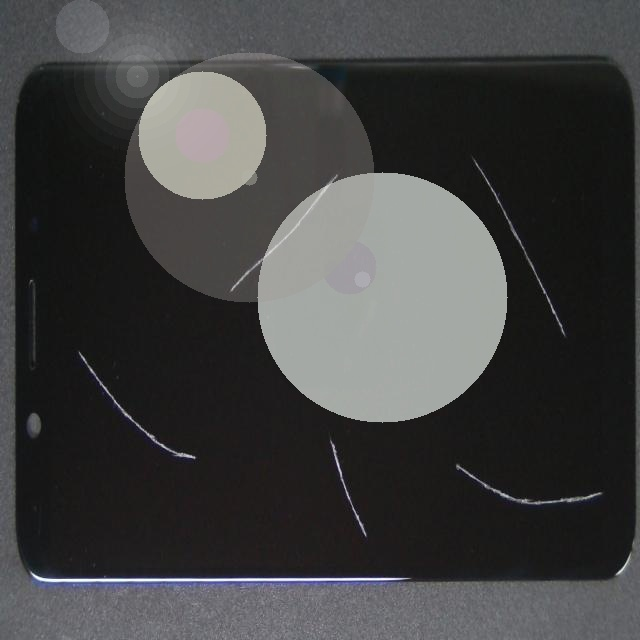scratch: (248, 13, 468, 276)
